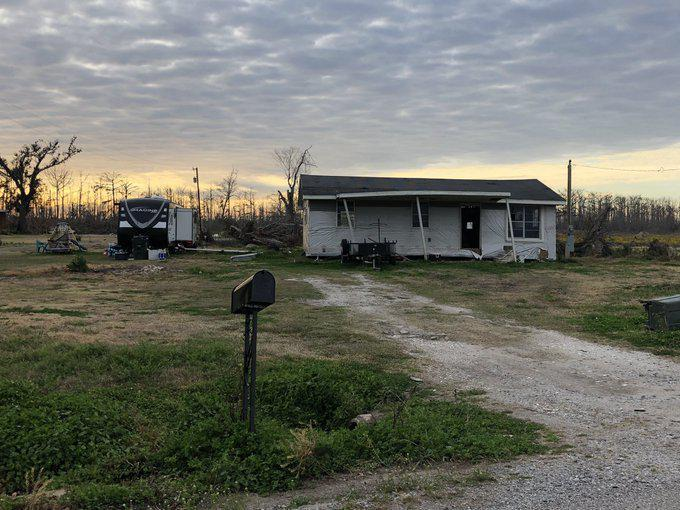minor: (276, 152, 570, 266)
